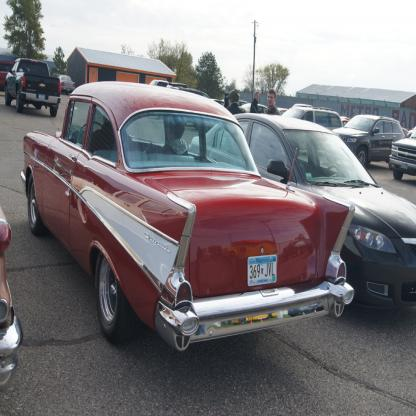Car: (19, 81, 357, 352), (188, 113, 416, 314), (332, 114, 404, 172), (279, 103, 344, 152), (388, 125, 416, 185), (56, 75, 76, 95), (238, 105, 271, 117)
